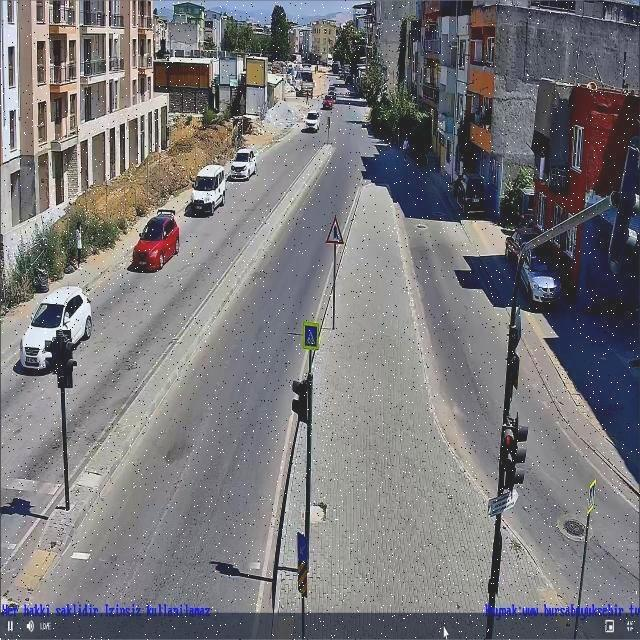Car: (10, 282, 96, 381), (123, 204, 192, 271), (514, 250, 574, 310), (296, 103, 330, 141), (230, 143, 259, 179), (316, 87, 340, 117)
Van: (189, 157, 232, 216)
